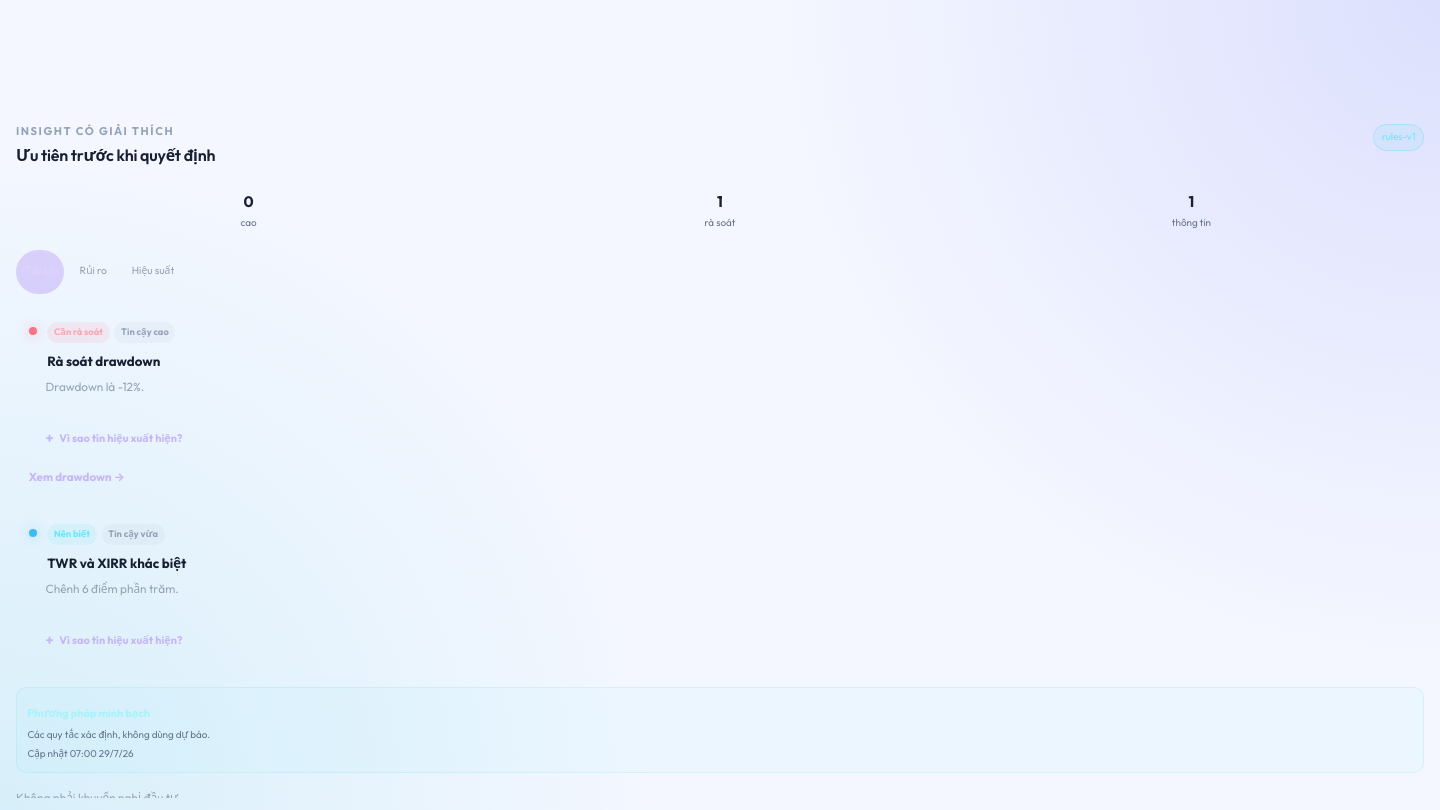
Scenario: InsightRail › exposes evidence and limitations in an expandable explanation
The width and height of the screenshot is (1440, 810).
Click the heading "Vì sao tín hiệu xuất hiện?" below "Cần rà soát" at (121, 438), box left=59, top=431, right=182, bottom=445
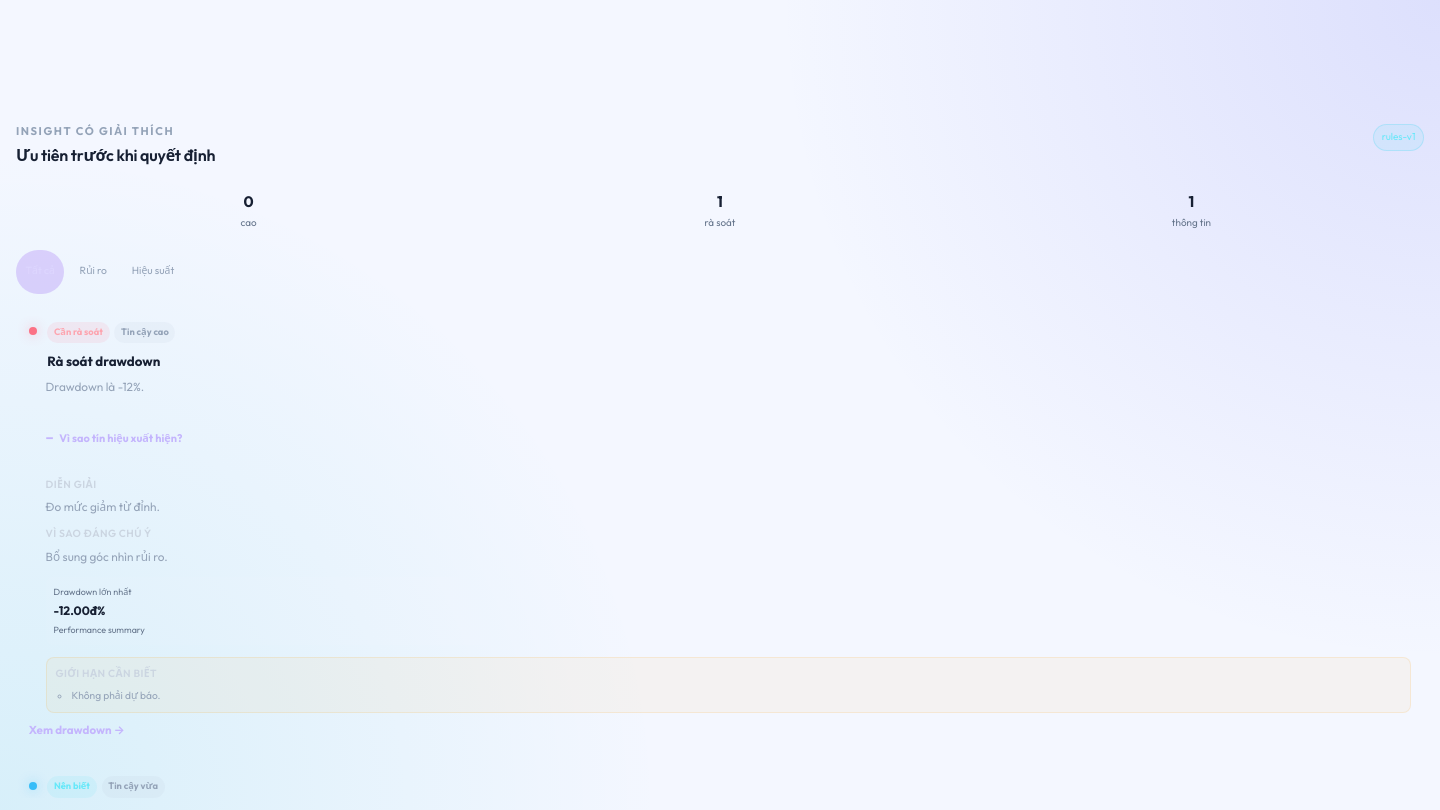
Expected: the text "Drawdown lớn nhất" is shown, left=54, top=586, right=132, bottom=597
Expected: the list item "Không phải dự báo." is shown, left=71, top=689, right=160, bottom=702
